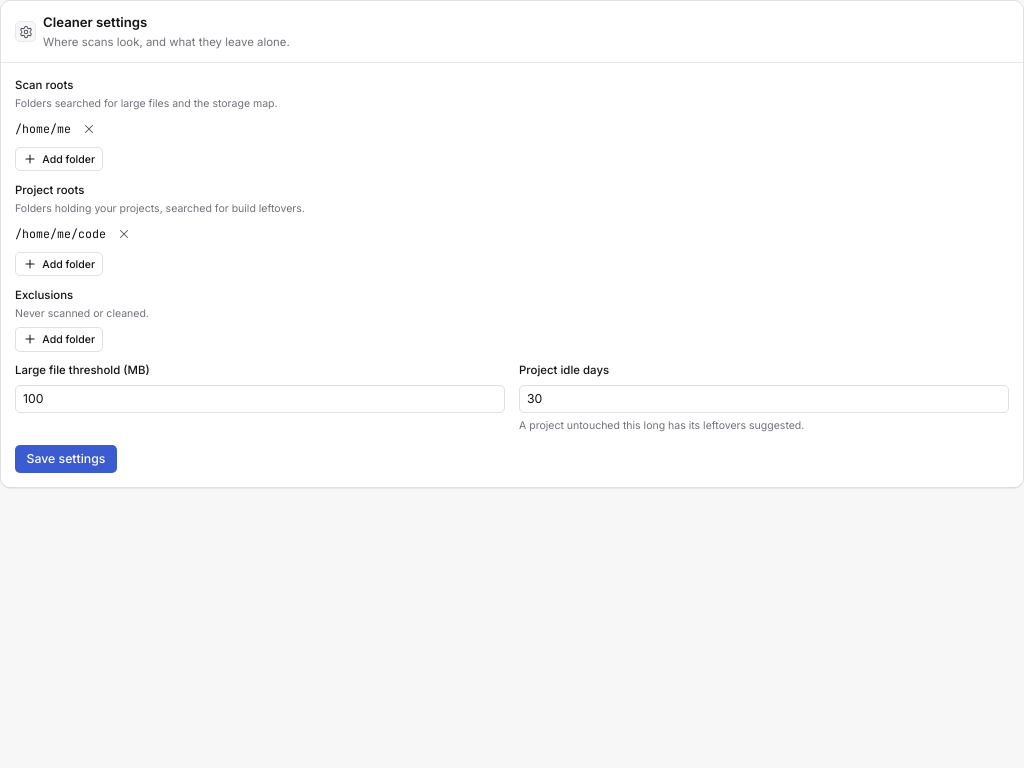
CleanerSettings › shows a save failure and blocks a bad number
This screenshot has width=1024, height=768.
Expected: the text "/home/me" is shown, [15,120,71,139]
Click the button "Save settings": (66, 459) [15,445,117,473]
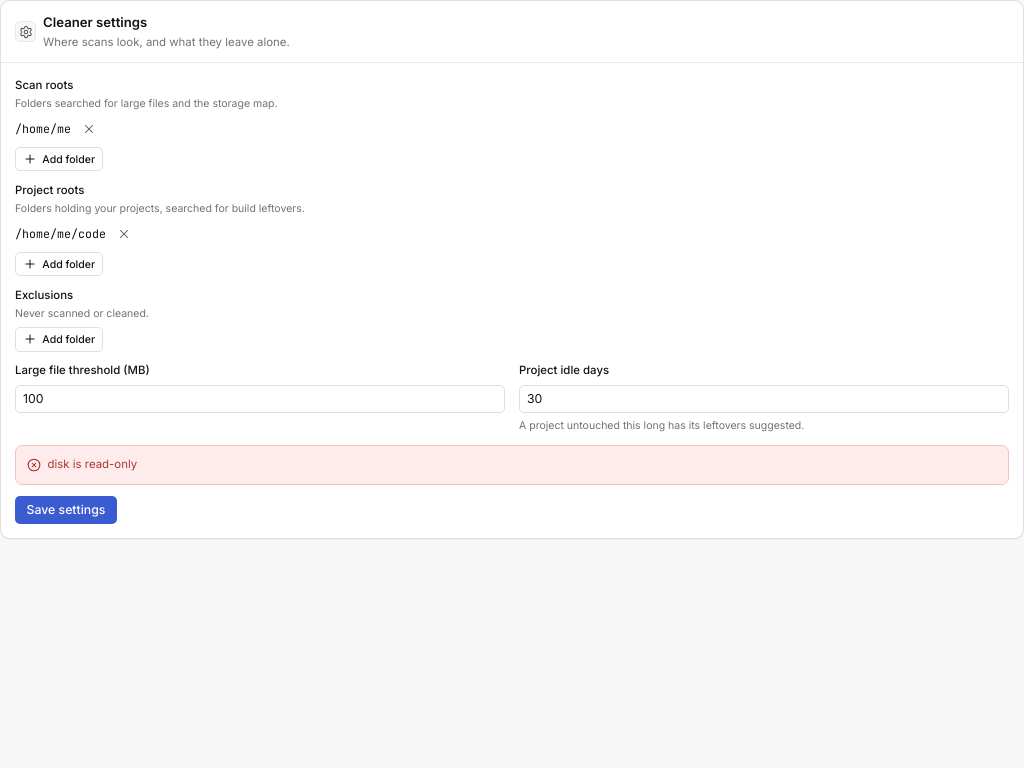
Result: the text "disk is read-only" is shown at [48,457,137,471]
Replace the text in the field labelled "Project idle days" with "abc": (764, 399) [519,385,1009,413]
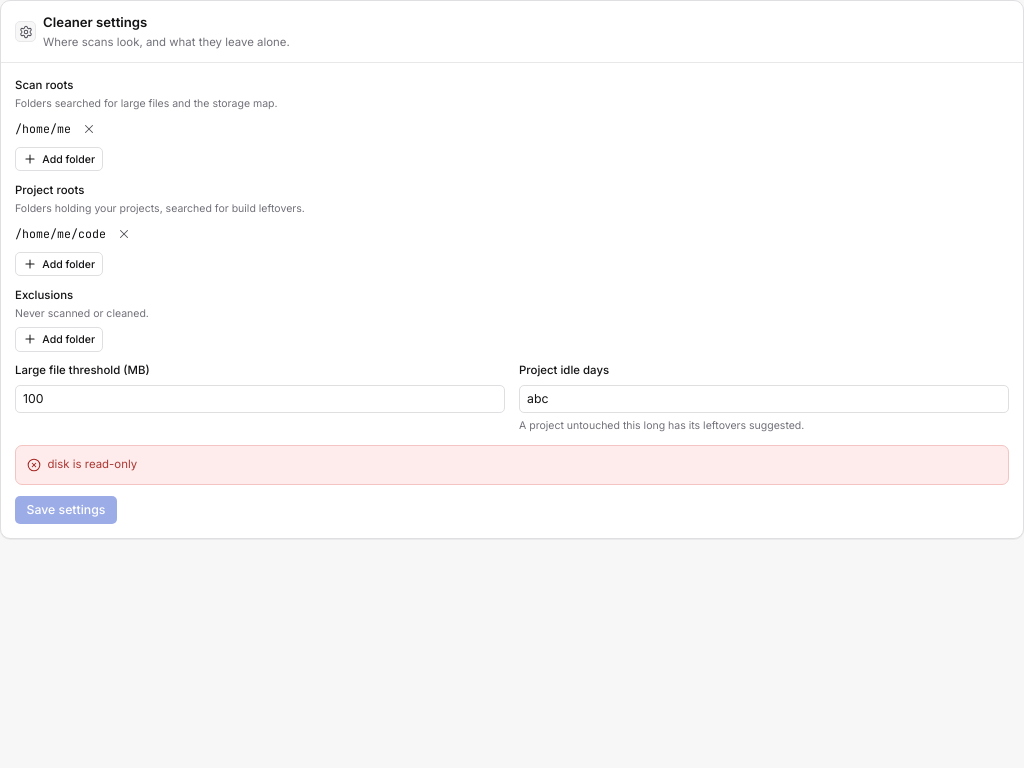
Result: the button "Save settings" is disabled at [15,496,117,524]
